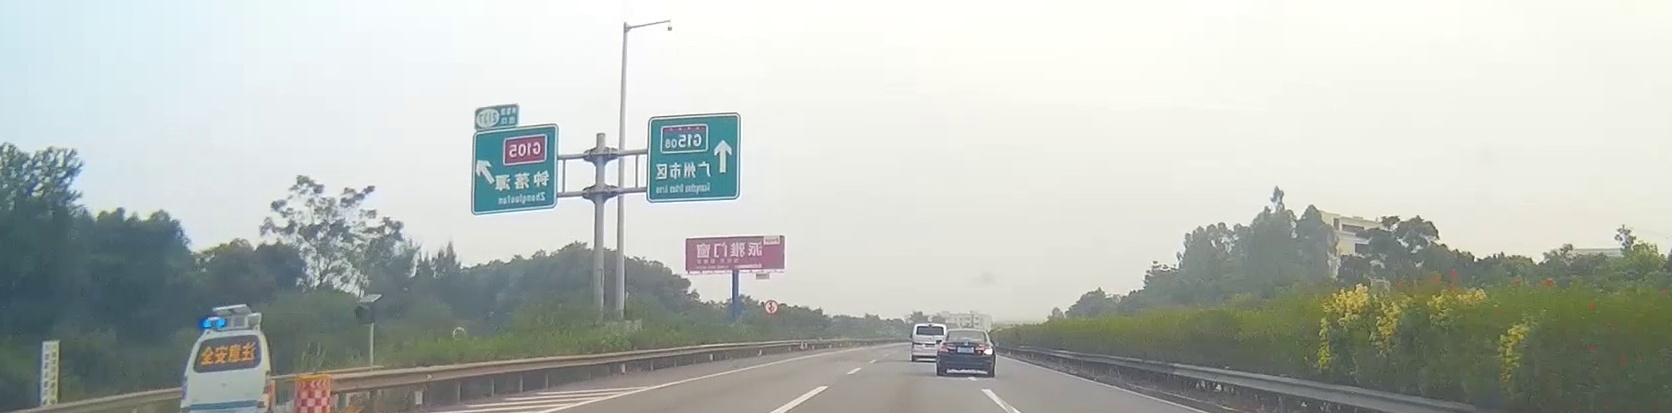L_light: (939, 343, 956, 352)
R_light: (975, 344, 993, 354)
T_light: (963, 330, 972, 332)
day-right: (935, 329, 995, 376)
